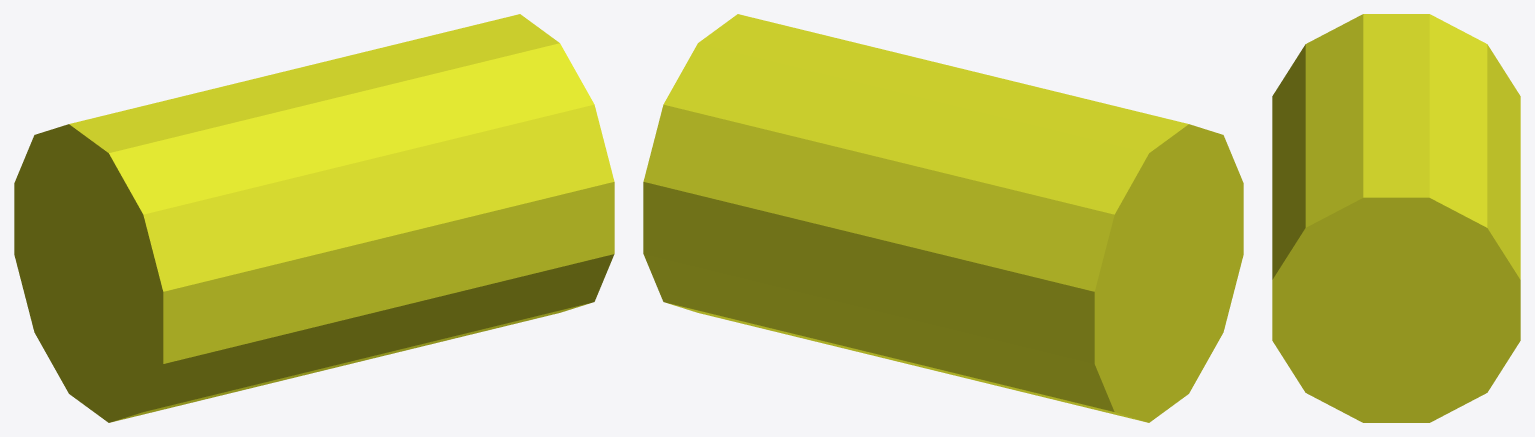
File: grinder.glb
3 renders of one model, left to right at view 1: azimuth 30°, elevation 25°; view 2: azimuth 150°, elevation 25°; view 3: azimuth 270°, elevation 25°, orthographic. The views are drawn at different scales.
Visible parts, largest first — view 1: Grindr; view 2: Grindr; view 3: Grindr.
Part boxes in pixels (x1,y1,x2,y2): Grindr: (14, 14, 614, 422); Grindr: (643, 14, 1243, 422); Grindr: (1272, 14, 1520, 422).
Size of the model in its own units: 2 by 1.14 by 1.14.
